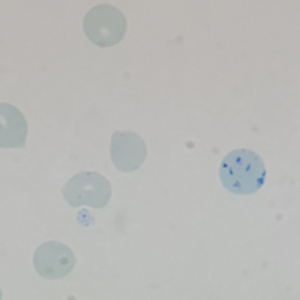aggregate reticulocyte: (217, 147, 269, 196)
erythrocyte: (80, 3, 129, 49), (31, 239, 77, 283)
punctate reticulocyte: (60, 170, 115, 212), (108, 128, 149, 174)
